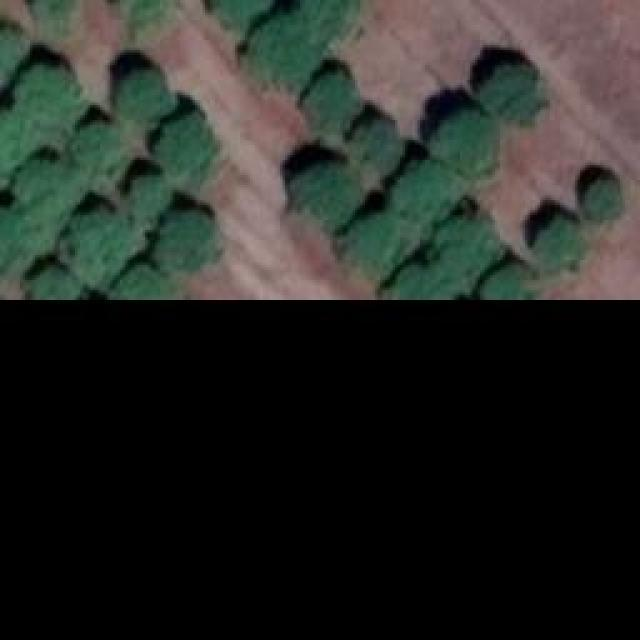Tree: (73, 213, 146, 283), (250, 18, 323, 88), (18, 162, 91, 230), (433, 113, 498, 176), (347, 217, 415, 275), (440, 215, 498, 283), (20, 65, 80, 128), (293, 165, 358, 223), (395, 163, 460, 218), (0, 210, 52, 275), (485, 65, 538, 125), (158, 115, 213, 170), (158, 213, 213, 268), (305, 75, 358, 128), (532, 215, 580, 273), (355, 123, 403, 173), (0, 110, 35, 178), (77, 122, 125, 170), (120, 73, 170, 118), (300, 0, 358, 38), (112, 268, 180, 298), (385, 268, 453, 298), (25, 265, 80, 300), (483, 260, 538, 295), (133, 175, 168, 218), (215, 0, 265, 28), (585, 180, 618, 218), (128, 0, 171, 28), (0, 30, 28, 68), (35, 0, 73, 28)
